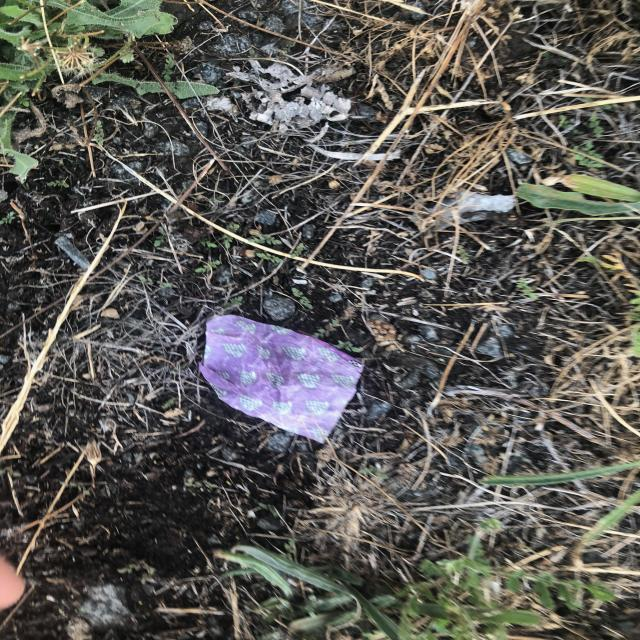litter: (199, 315, 365, 444)
